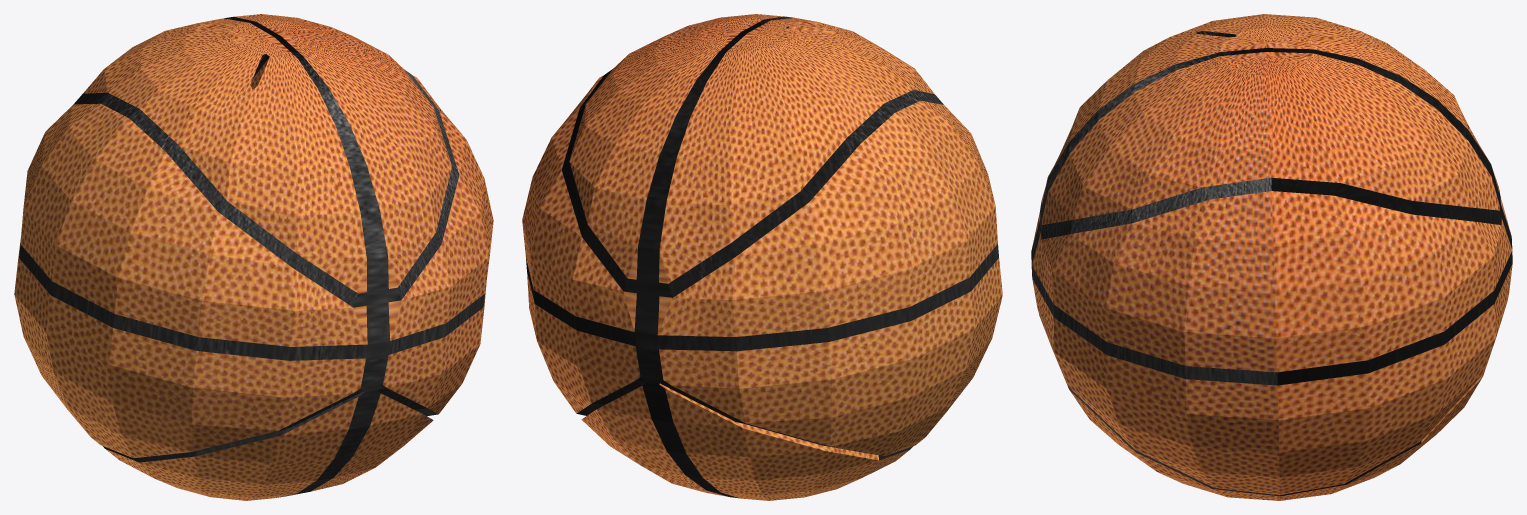
The model's file is basketballcourtanimationshooting.glb.
The picture shows the model from 3 angles, left to right: view 1: azimuth 30°, elevation 25°; view 2: azimuth 150°, elevation 25°; view 3: azimuth 270°, elevation 25°; orthographic projection.
Visible parts, largest first — view 1: ball; view 2: ball; view 3: ball.
Boxes of the visible parts, x1,y1,x2,y2 form: ball: [14, 14, 493, 500]; ball: [522, 14, 1002, 500]; ball: [1031, 14, 1512, 500].
Bounding box in the file's own units: 1.99 × 1.99 × 1.97.
Materials: 2 (2 with a texture image).
